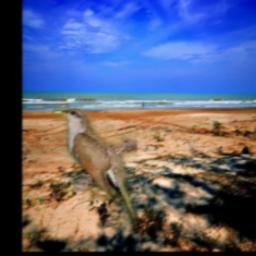Cuckoo: (52, 108, 137, 225)
